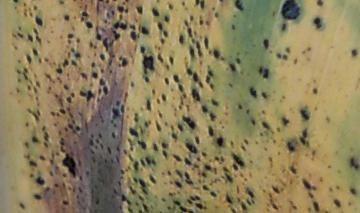tarspot: (281, 1, 300, 20), (62, 153, 76, 178), (142, 54, 155, 74), (182, 115, 196, 130), (231, 151, 245, 166), (27, 107, 40, 122), (232, 1, 245, 13), (185, 142, 198, 154), (301, 177, 312, 190), (191, 88, 201, 101), (111, 107, 121, 119), (300, 109, 310, 121), (249, 86, 258, 99), (286, 141, 296, 152), (86, 89, 95, 101), (350, 157, 358, 170), (129, 128, 139, 138), (137, 139, 147, 149), (141, 25, 150, 36), (151, 6, 160, 17), (312, 201, 321, 212), (36, 175, 45, 186), (203, 36, 210, 50), (93, 1, 100, 15), (35, 15, 43, 27), (262, 38, 270, 50), (313, 17, 321, 29), (148, 173, 156, 185), (102, 38, 109, 51), (188, 45, 195, 58), (79, 72, 89, 81), (112, 30, 121, 40), (196, 41, 202, 56), (221, 165, 231, 174), (288, 165, 297, 175), (175, 167, 183, 178), (155, 119, 162, 131), (226, 193, 233, 205), (210, 97, 219, 106), (333, 199, 342, 208), (272, 185, 281, 194), (44, 71, 52, 81), (55, 64, 63, 74), (135, 5, 143, 15), (156, 53, 164, 63), (228, 62, 236, 72), (127, 152, 135, 162), (172, 154, 182, 162), (282, 116, 290, 126), (299, 136, 307, 146), (138, 178, 146, 188), (25, 54, 32, 65), (121, 56, 128, 67), (213, 48, 220, 59), (207, 125, 214, 136), (210, 177, 221, 184), (130, 184, 137, 195), (177, 83, 185, 92), (178, 33, 184, 45), (30, 135, 39, 143), (184, 157, 192, 166), (200, 104, 208, 113), (209, 113, 217, 122), (261, 121, 270, 129), (349, 186, 357, 195), (271, 202, 280, 210), (157, 21, 164, 31), (186, 27, 193, 37), (28, 159, 38, 166), (262, 69, 269, 79), (241, 201, 248, 211), (126, 68, 133, 78), (69, 59, 77, 67), (120, 22, 128, 30), (351, 49, 359, 57), (202, 183, 210, 191), (175, 180, 183, 188), (179, 205, 187, 213), (32, 47, 39, 56), (102, 86, 109, 95), (172, 75, 179, 84), (99, 52, 106, 61), (113, 20, 120, 29), (130, 31, 137, 40), (163, 15, 170, 24), (199, 1, 206, 10), (65, 95, 72, 104), (43, 132, 50, 141), (114, 154, 121, 163), (145, 156, 152, 165), (160, 92, 167, 101), (162, 149, 169, 158), (216, 137, 223, 146), (307, 190, 314, 199), (201, 170, 208, 179), (172, 199, 181, 206), (69, 23, 76, 32), (48, 15, 57, 22), (164, 76, 170, 86), (193, 72, 199, 82), (122, 92, 128, 102), (146, 99, 151, 111), (194, 135, 200, 145), (195, 203, 205, 209), (32, 27, 39, 35), (79, 90, 87, 97), (86, 21, 94, 28), (117, 5, 124, 13), (207, 69, 214, 77), (282, 53, 289, 61), (275, 52, 282, 60), (261, 91, 268, 99), (311, 87, 318, 95), (171, 133, 179, 140), (247, 190, 254, 198), (126, 198, 133, 206), (34, 193, 42, 200), (183, 59, 190, 67), (134, 160, 139, 171), (303, 127, 308, 138), (143, 202, 148, 213), (23, 8, 29, 17), (36, 36, 42, 45), (27, 33, 33, 42), (129, 79, 135, 88), (140, 46, 146, 55), (183, 18, 189, 27), (24, 141, 30, 150), (177, 123, 183, 132), (77, 158, 83, 167), (100, 77, 105, 87), (134, 112, 139, 122), (235, 184, 240, 194), (185, 180, 195, 185), (22, 73, 29, 80), (91, 72, 98, 79), (82, 10, 89, 17), (95, 33, 102, 40), (167, 3, 174, 10), (60, 107, 67, 114), (88, 148, 95, 155), (154, 97, 161, 104), (162, 142, 169, 149), (280, 24, 287, 31), (240, 144, 247, 151), (310, 148, 317, 155), (186, 198, 193, 205), (142, 188, 149, 195), (64, 14, 70, 22), (26, 84, 32, 92), (35, 80, 41, 88), (67, 33, 75, 39), (168, 57, 174, 65), (159, 37, 165, 45), (162, 30, 168, 38), (39, 155, 47, 161), (99, 142, 105, 150), (106, 146, 112, 154), (115, 99, 121, 107), (127, 139, 133, 147), (316, 1, 324, 7), (285, 46, 291, 54), (169, 124, 175, 132), (204, 165, 212, 171), (227, 175, 233, 183), (166, 169, 172, 177), (62, 199, 70, 205), (19, 201, 25, 209), (305, 54, 311, 62), (312, 77, 318, 85), (64, 59, 69, 68), (258, 66, 263, 75), (121, 104, 126, 113), (247, 197, 252, 206), (180, 95, 184, 106), (18, 32, 24, 39), (22, 67, 29, 73), (37, 57, 43, 64), (187, 68, 193, 75), (213, 12, 220, 18), (109, 40, 115, 47), (68, 123, 74, 130), (71, 128, 78, 134), (235, 58, 242, 64), (158, 112, 164, 119), (201, 151, 208, 157), (213, 155, 220, 161), (238, 68, 244, 75), (288, 198, 294, 205), (210, 191, 217, 197), (168, 191, 175, 197), (138, 195, 145, 201), (132, 176, 139, 182), (48, 170, 54, 177), (125, 104, 131, 111), (15, 98, 22, 104), (162, 179, 168, 186), (138, 105, 144, 112), (97, 87, 102, 95), (66, 51, 71, 59), (89, 40, 94, 48), (205, 19, 210, 27), (205, 75, 210, 83), (140, 159, 145, 167), (153, 143, 158, 151), (293, 56, 298, 64), (186, 104, 191, 112), (220, 155, 225, 163), (326, 116, 331, 124), (185, 172, 190, 180), (191, 194, 196, 202), (11, 33, 17, 39), (47, 85, 53, 91), (63, 84, 69, 90), (74, 52, 80, 58), (130, 24, 136, 30), (110, 53, 116, 59), (198, 19, 204, 25), (58, 34, 64, 40), (34, 95, 40, 101), (43, 142, 49, 148), (60, 146, 66, 152), (88, 140, 94, 146), (312, 105, 318, 111), (243, 139, 249, 145), (213, 168, 219, 174), (112, 188, 118, 194), (62, 172, 68, 178), (133, 16, 139, 22), (16, 87, 21, 94), (33, 72, 38, 79), (76, 37, 81, 44), (83, 3, 88, 10), (118, 14, 123, 21), (124, 7, 129, 14), (165, 64, 170, 71), (189, 14, 194, 21), (198, 59, 203, 66), (231, 24, 236, 31), (49, 111, 56, 116), (37, 109, 42, 116), (64, 126, 69, 133), (41, 125, 46, 132), (23, 154, 30, 159), (92, 157, 97, 164), (192, 163, 199, 168), (246, 108, 251, 115), (276, 126, 281, 133), (268, 156, 273, 163), (312, 185, 317, 192), (319, 176, 324, 183), (251, 198, 256, 205), (120, 168, 125, 175), (117, 179, 122, 186), (121, 195, 126, 202), (85, 169, 90, 176), (78, 186, 83, 193), (7, 90, 14, 95), (140, 127, 144, 135), (72, 186, 76, 194), (29, 12, 34, 18), (16, 69, 22, 74), (16, 77, 22, 82), (29, 79, 34, 85), (44, 57, 49, 63), (70, 92, 75, 98), (145, 77, 150, 83), (108, 60, 113, 66), (71, 47, 76, 53), (209, 84, 214, 90), (72, 15, 77, 21), (78, 4, 83, 10), (54, 93, 59, 99), (69, 112, 74, 118), (53, 122, 58, 128), (76, 125, 81, 131), (49, 158, 54, 164), (78, 111, 83, 117), (98, 133, 103, 139), (116, 146, 121, 152), (111, 133, 116, 139), (123, 149, 128, 155), (152, 159, 157, 165), (163, 121, 169, 126), (196, 156, 201, 162), (238, 104, 243, 110), (281, 94, 286, 100), (261, 110, 267, 115), (233, 165, 239, 170), (263, 147, 269, 152), (248, 172, 253, 178), (230, 207, 235, 213), (128, 208, 134, 213), (95, 199, 100, 205), (14, 45, 18, 52), (152, 88, 156, 95), (199, 81, 203, 88), (91, 61, 95, 68), (192, 38, 196, 45), (184, 92, 188, 99), (252, 119, 256, 126), (240, 171, 244, 178), (62, 181, 66, 188), (22, 2, 27, 7), (17, 59, 22, 64), (67, 40, 72, 45), (181, 1, 186, 6), (46, 39, 51, 44), (90, 133, 95, 138), (95, 139, 100, 144), (302, 49, 307, 54), (173, 107, 178, 112), (272, 139, 277, 144), (259, 132, 264, 137), (327, 164, 332, 169), (336, 185, 341, 190), (293, 205, 298, 210), (262, 189, 267, 194), (196, 195, 201, 200), (167, 206, 172, 211), (160, 171, 165, 176), (134, 201, 139, 206), (118, 205, 123, 210), (75, 194, 80, 199), (54, 183, 59, 188), (125, 114, 130, 119), (33, 5, 37, 11), (59, 1, 65, 5), (100, 68, 104, 74), (111, 10, 115, 16), (208, 50, 212, 56), (229, 83, 233, 89), (67, 106, 71, 112), (231, 14, 237, 18), (145, 122, 149, 128), (148, 119, 152, 125), (272, 11, 276, 17), (198, 15, 204, 19), (237, 51, 241, 57), (230, 141, 234, 147), (237, 197, 241, 203), (198, 178, 202, 184), (169, 179, 173, 185), (68, 185, 72, 191), (45, 187, 51, 191), (13, 6, 18, 10), (18, 26, 22, 31), (34, 88, 38, 93), (96, 98, 101, 102), (59, 79, 63, 84), (56, 76, 60, 81), (118, 63, 122, 68), (93, 52, 97, 57), (94, 45, 98, 50), (81, 17, 85, 22), (106, 12, 110, 17), (122, 1, 126, 6), (195, 1, 199, 6), (193, 31, 197, 36), (50, 30, 55, 34), (66, 72, 70, 77), (36, 102, 41, 106), (72, 119, 76, 124), (25, 122, 29, 127), (56, 151, 60, 156), (58, 129, 62, 134), (60, 137, 65, 141), (60, 141, 65, 145), (73, 141, 78, 145), (89, 83, 94, 87), (95, 145, 99, 150), (129, 148, 134, 152), (308, 47, 312, 52), (178, 105, 183, 109), (184, 6, 188, 11), (221, 125, 225, 130), (224, 112, 229, 116), (225, 106, 230, 110), (329, 187, 333, 192), (348, 201, 352, 206), (324, 209, 329, 213), (269, 198, 273, 203), (268, 193, 273, 197), (221, 175, 225, 180), (188, 209, 193, 213), (177, 190, 181, 195), (161, 198, 166, 202), (127, 165, 132, 169), (120, 175, 124, 180), (29, 174, 34, 178), (55, 166, 60, 170), (13, 1, 19, 4), (290, 179, 293, 185), (109, 70, 113, 74), (104, 20, 108, 24), (212, 7, 216, 11), (221, 57, 225, 61), (104, 160, 108, 164), (170, 87, 174, 91), (277, 152, 281, 156), (249, 159, 253, 163), (244, 178, 248, 182), (99, 115, 103, 119), (95, 123, 99, 127), (119, 55, 122, 60), (105, 1, 110, 4), (156, 1, 161, 4), (52, 153, 55, 158), (110, 119, 113, 124), (80, 176, 83, 181), (102, 120, 105, 125), (97, 1, 104, 3), (158, 47, 161, 51), (218, 1, 224, 3), (57, 113, 60, 117), (114, 124, 117, 128), (174, 113, 177, 117), (256, 141, 259, 145), (173, 96, 176, 100), (198, 172, 201, 176), (138, 210, 142, 213), (111, 160, 114, 163), (73, 1, 77, 3), (111, 1, 118, 2), (127, 1, 129, 3)
